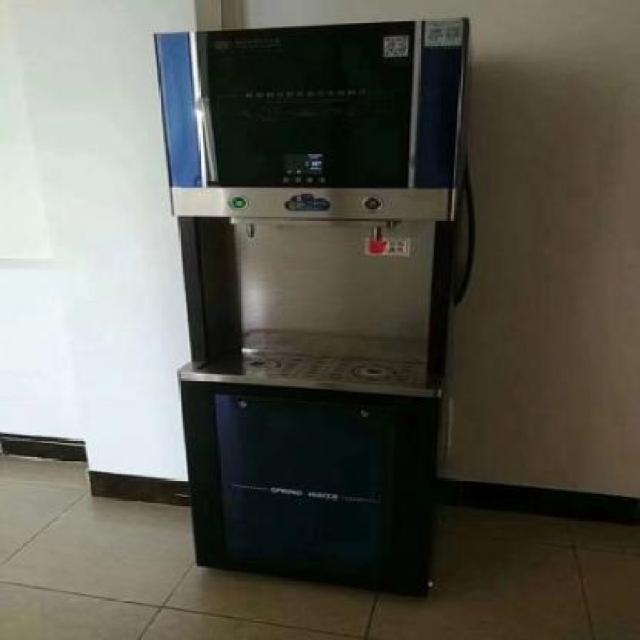cooler: (151, 15, 472, 604)
